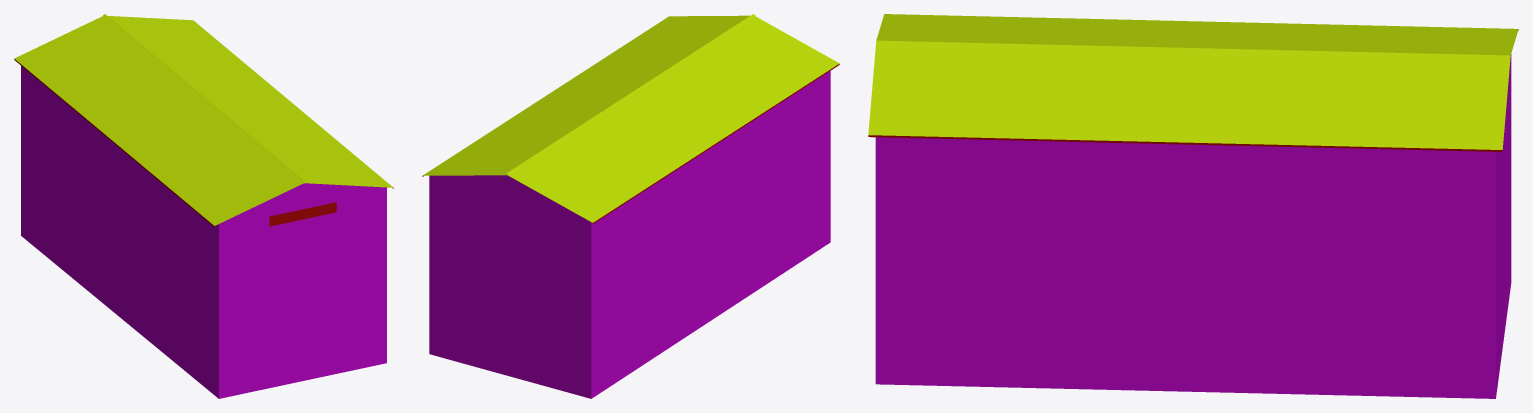
3 renders of one model, left to right at view 1: azimuth 30°, elevation 25°; view 2: azimuth 150°, elevation 25°; view 3: azimuth 270°, elevation 25°, orthographic. The views are drawn at different scales.
Visible parts, largest first — view 1: sc_72; view 2: sc_72; view 3: sc_72.
Part boxes in pixels (x1=…): sc_72: x1=14, y1=14, x2=393, y2=398; sc_72: x1=422, y1=14, x2=839, y2=398; sc_72: x1=868, y1=14, x2=1518, y2=398.
Bounding box in the file's own units: 18.07 × 17.82 × 36.48.
